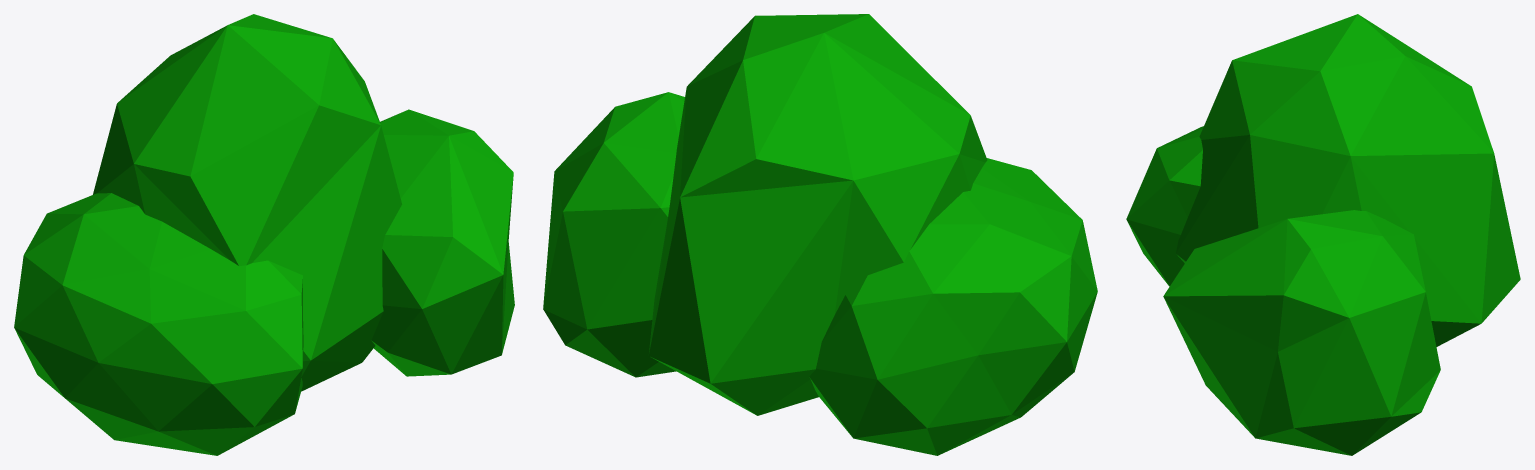
The model's file is bush5.fbx.
The picture shows the model from 3 angles, left to right: view 1: azimuth 30°, elevation 25°; view 2: azimuth 150°, elevation 25°; view 3: azimuth 270°, elevation 25°; orthographic projection. The views are drawn at different scales.
Parts seen in each view (by area): view 1: Icosphere.016; view 2: Icosphere.016; view 3: Icosphere.016.
Part boxes in pixels (x1,y1,x2,y2): Icosphere.016: (14, 14, 514, 455); Icosphere.016: (543, 14, 1097, 455); Icosphere.016: (1126, 14, 1520, 455).
Size of the model in its own units: 165 by 124 by 125.
